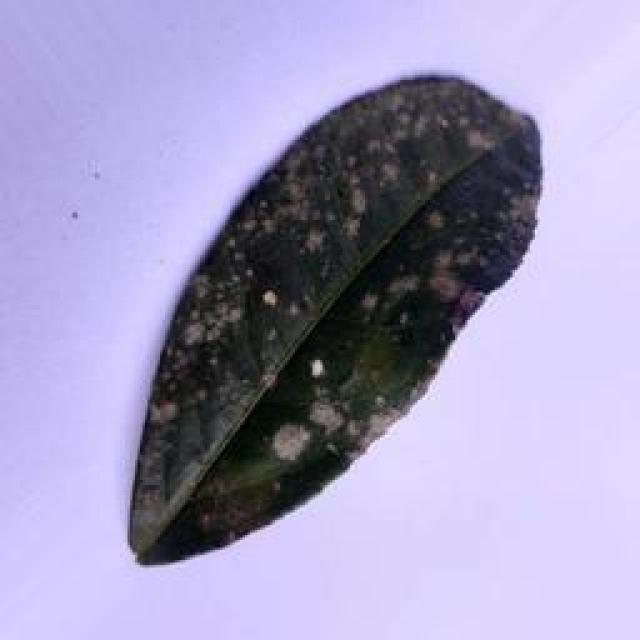Algal Leaf Spot: (117, 71, 557, 585)
